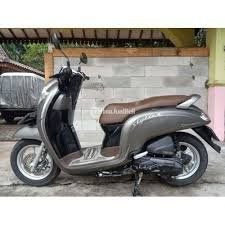motor: (23, 69, 215, 188)
